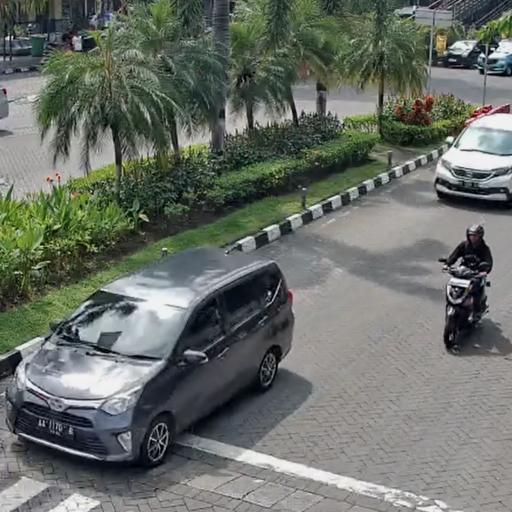mobil: (8, 244, 296, 461), (437, 106, 512, 208)
motor: (435, 254, 495, 356)
